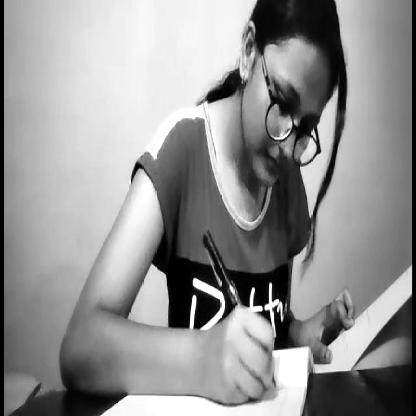Distracted: (240, 1, 343, 191)
